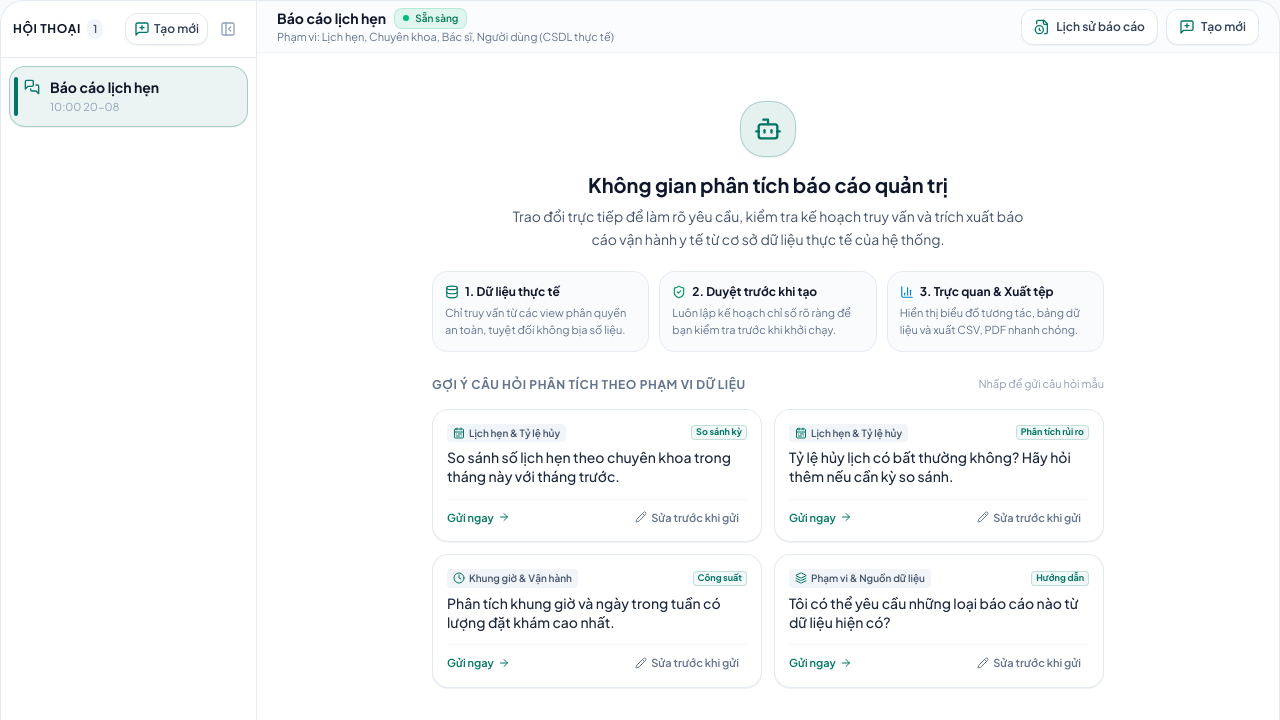
Scenario: AdminAiReportAssistantPage › toggles the left conversation sidebar open and closed on desktop
The width and height of the screenshot is (1280, 720).
Click collapse
Click the button named "Thu gọn danh sách hội thoại" at (228, 29), box [212,13,244,45]
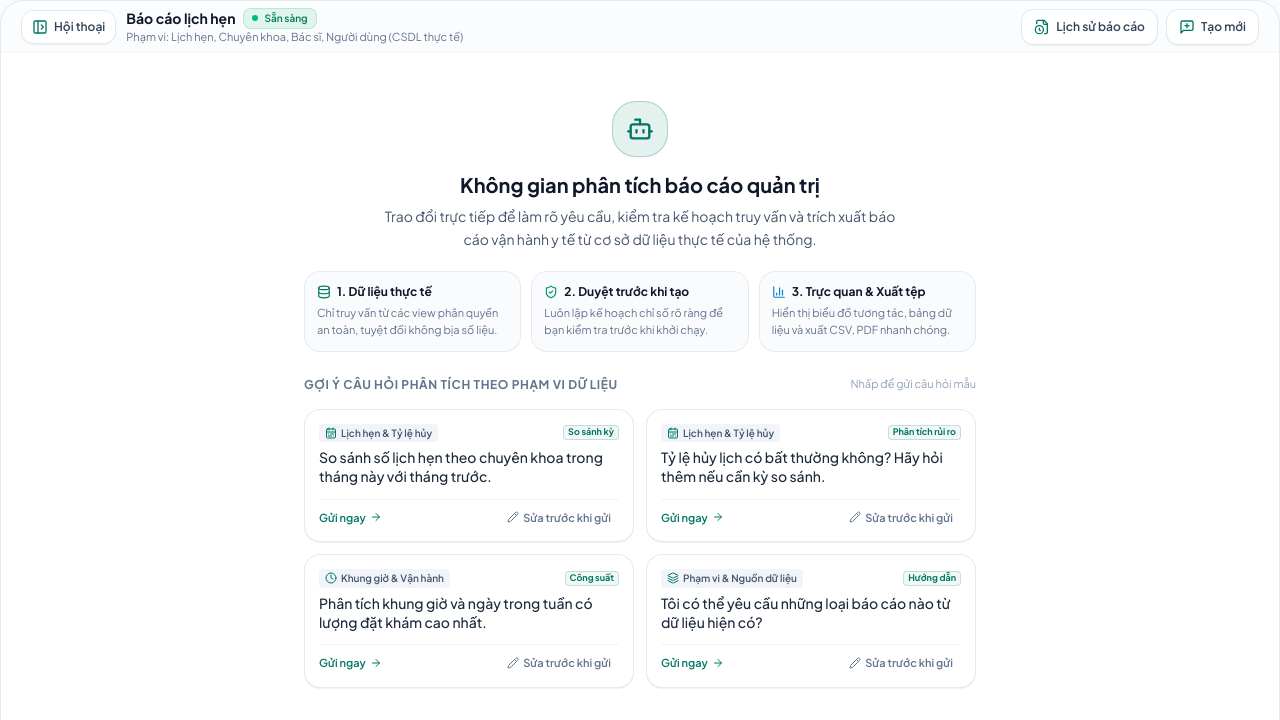
expect the button with aria-label "Mở rộng danh sách hội thoại" is shown: met
Click reopen
Click the button with aria-label "Mở rộng danh sách hội thoại" at (69, 26), box [21,10,116,44]
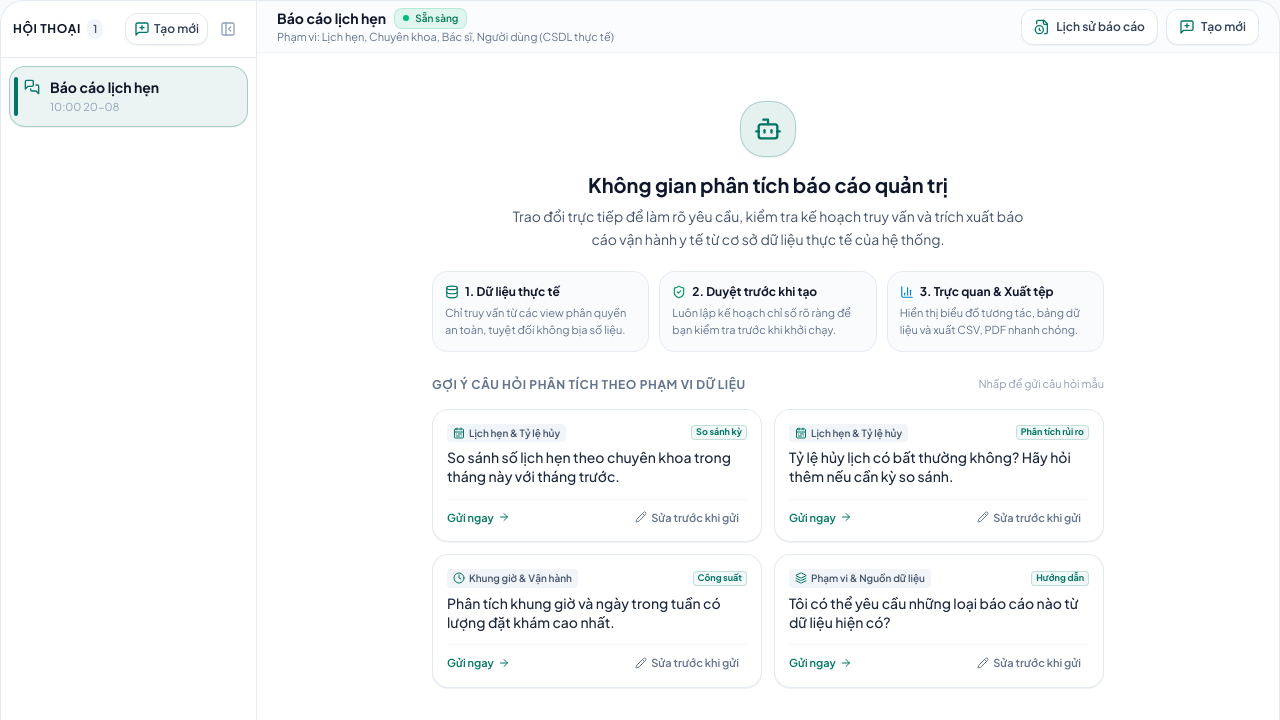
expect the button named "Thu gọn danh sách hội thoại" is shown: met, box [212,13,244,45]
